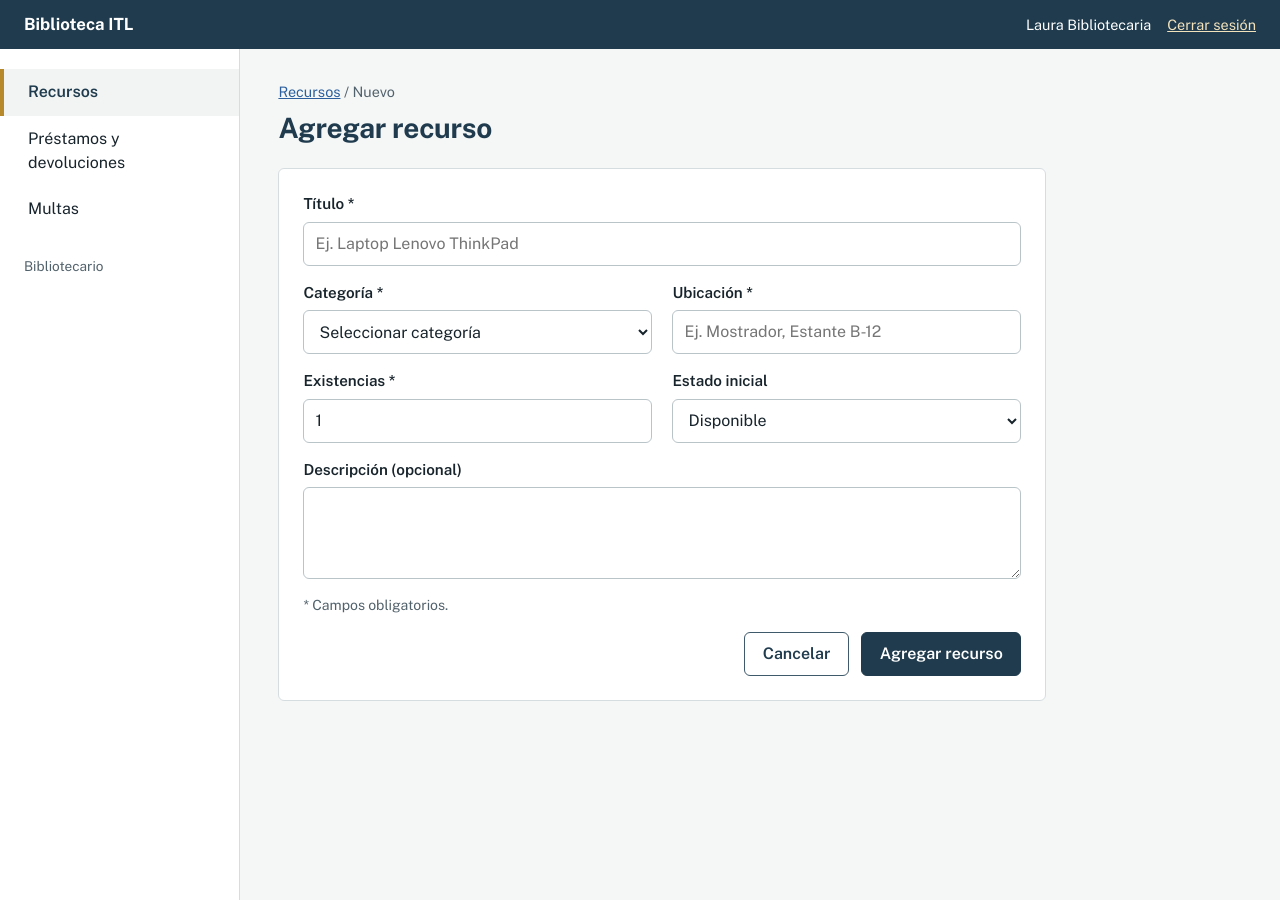
Test: Recursos (CU03) › alta correcta envía el JSON del contrato y regresa con aviso
Type "Laptop Lenovo ThinkPad" into the field labelled "Título *".
click(662, 244); type("Laptop Lenovo ThinkPad")  # box [303, 222, 1021, 266]
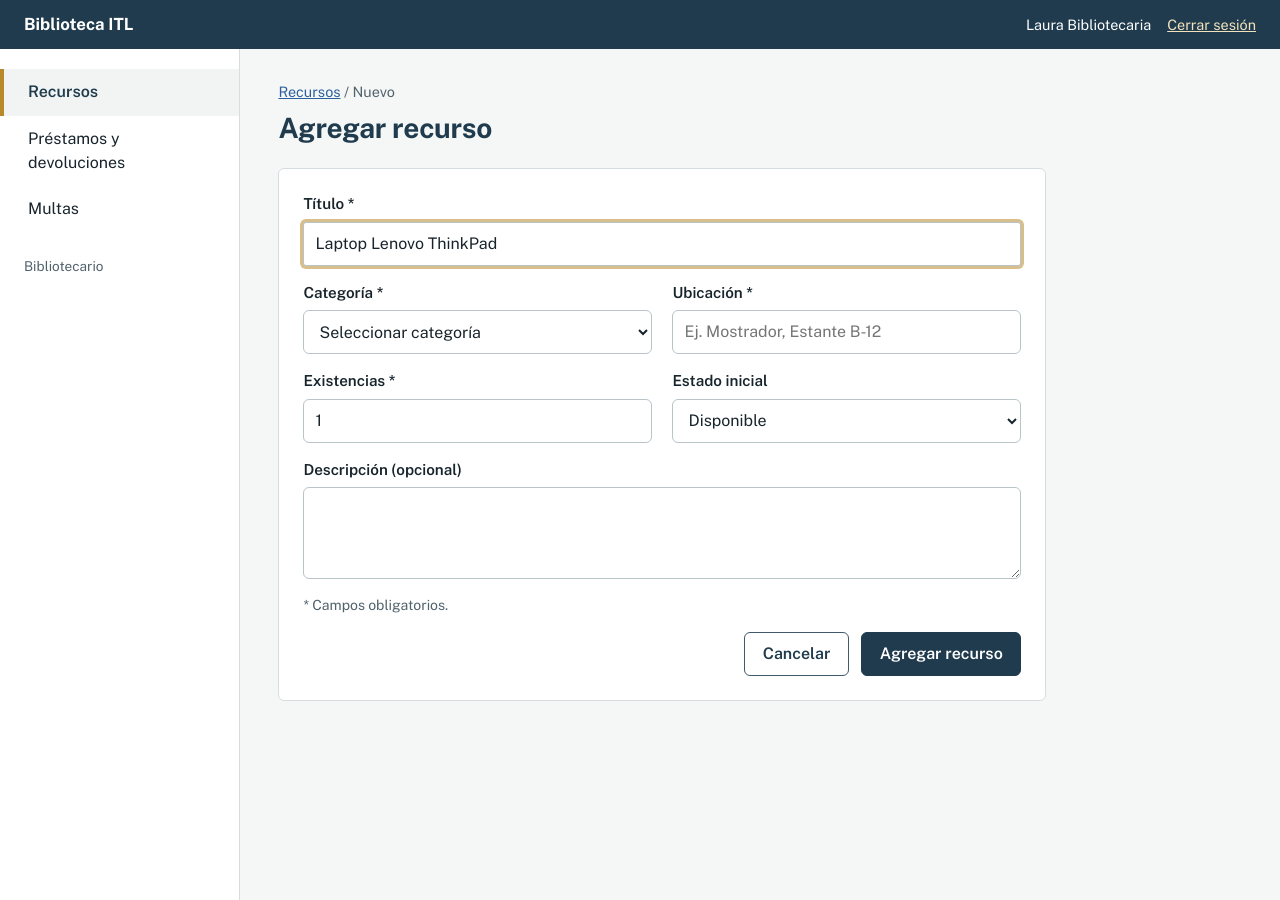
Select "Equipo" in the dropdown labelled "Categoría *" at (478, 332), box [303, 310, 652, 354]
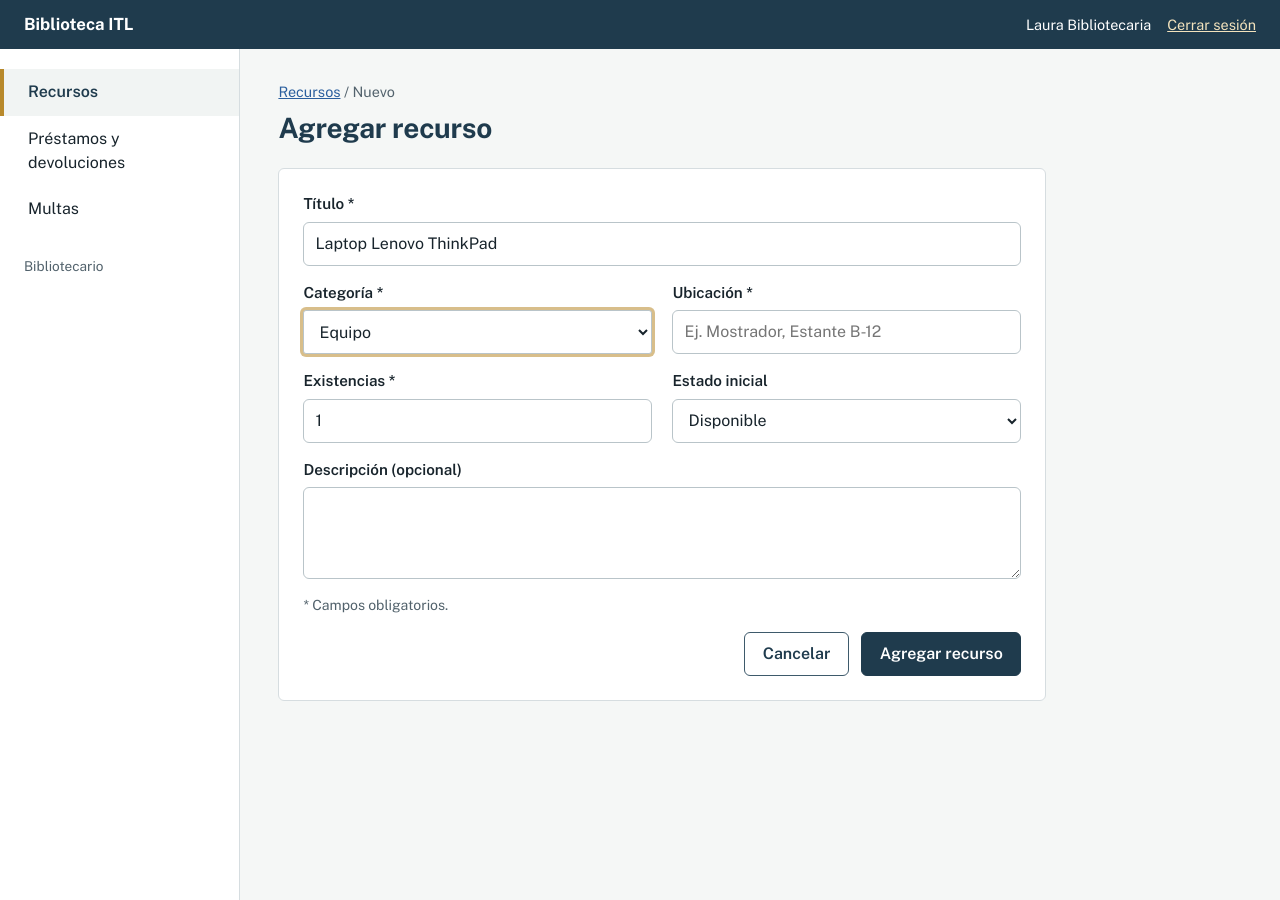
Type "Mostrador" into the field labelled "Ubicación *".
click(847, 332); type("Mostrador")  # box [672, 310, 1021, 354]
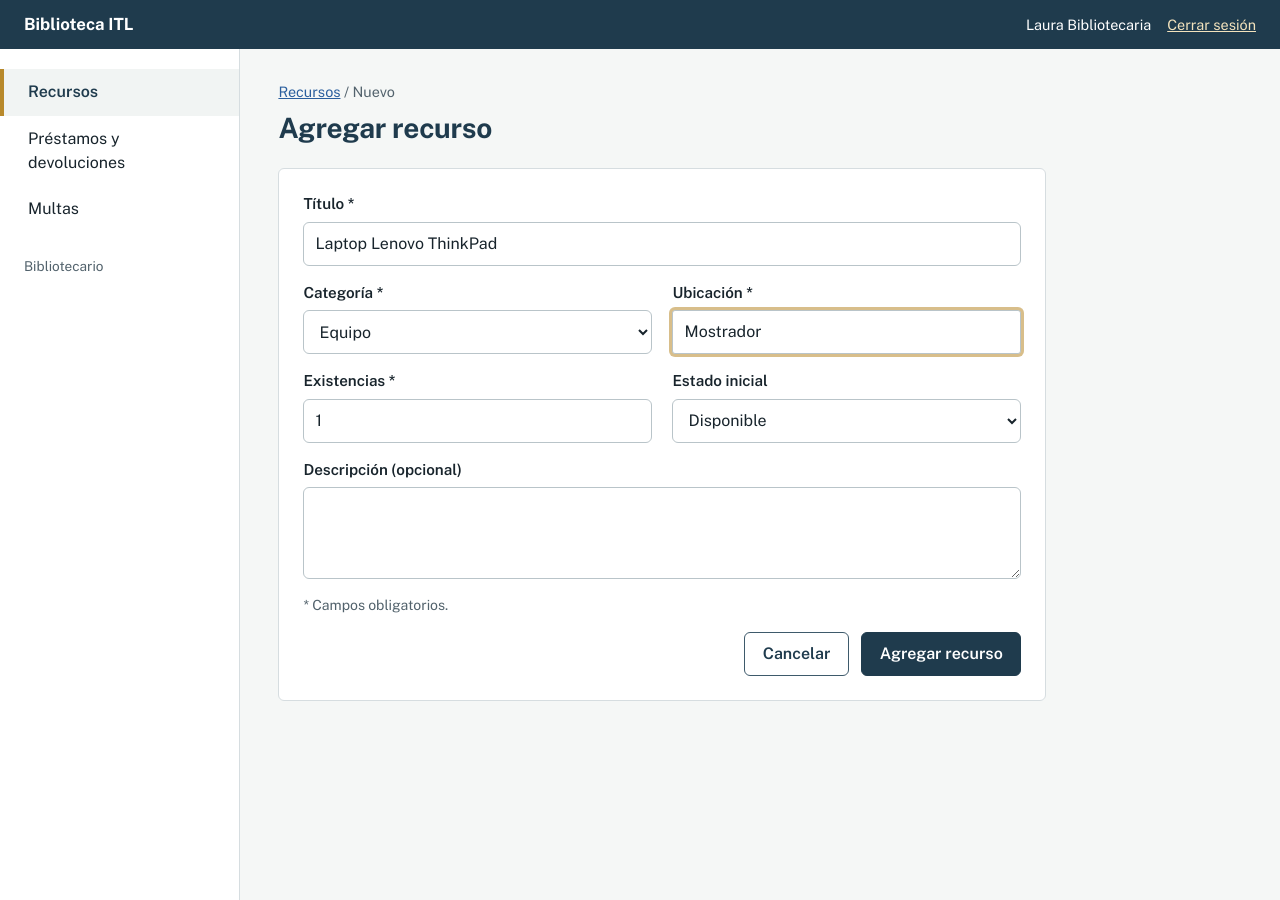
Click the button "Agregar recurso".
click(941, 654)  # box [861, 632, 1021, 676]
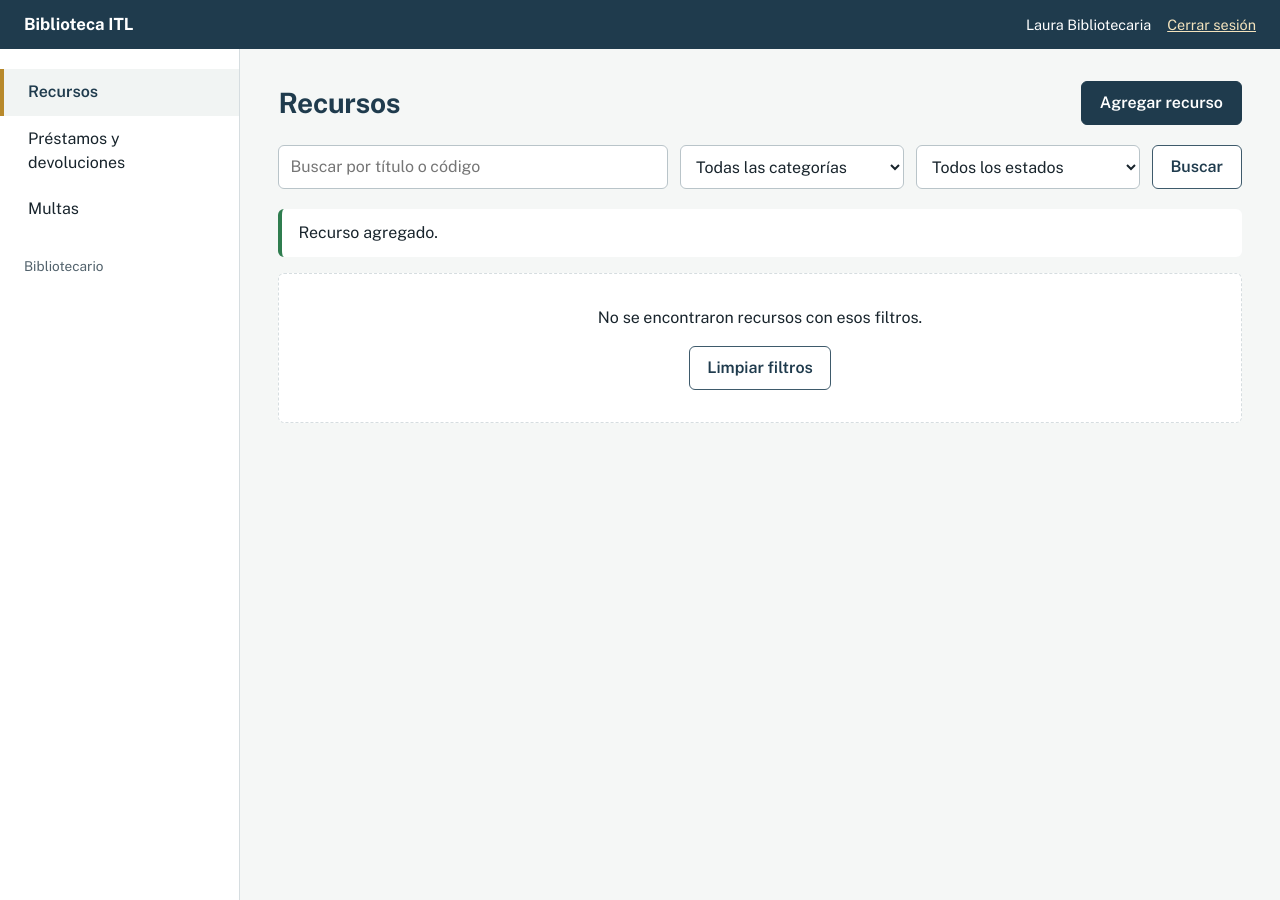
Now the text "Recurso agregado." is shown, box [278, 209, 1242, 257]
